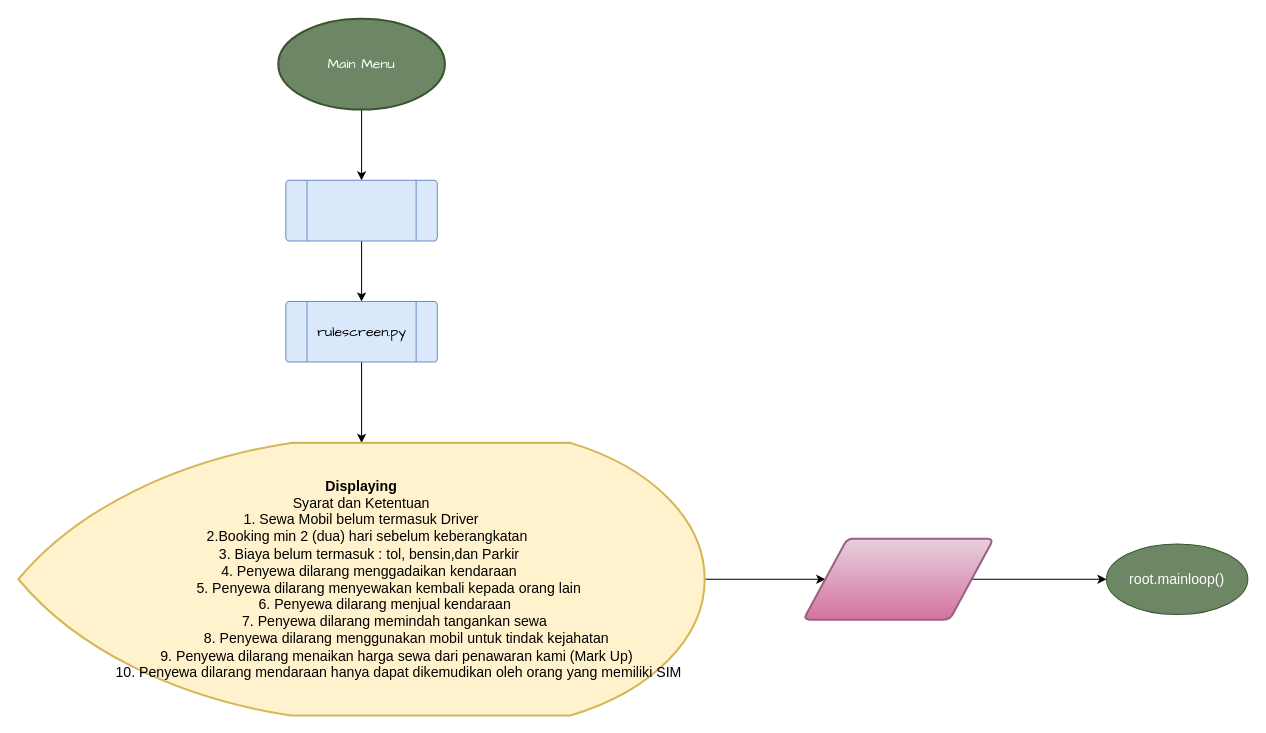
The diagram is 1266 pixels wide and 733 high, and some of its shapes have lost their labels. The box of each missing label's shape, as (x1, y1, x2, y2) in pixels:
bgScreen.png: (285, 179, 437, 241)
click " kembali " button: (802, 537, 994, 620)
